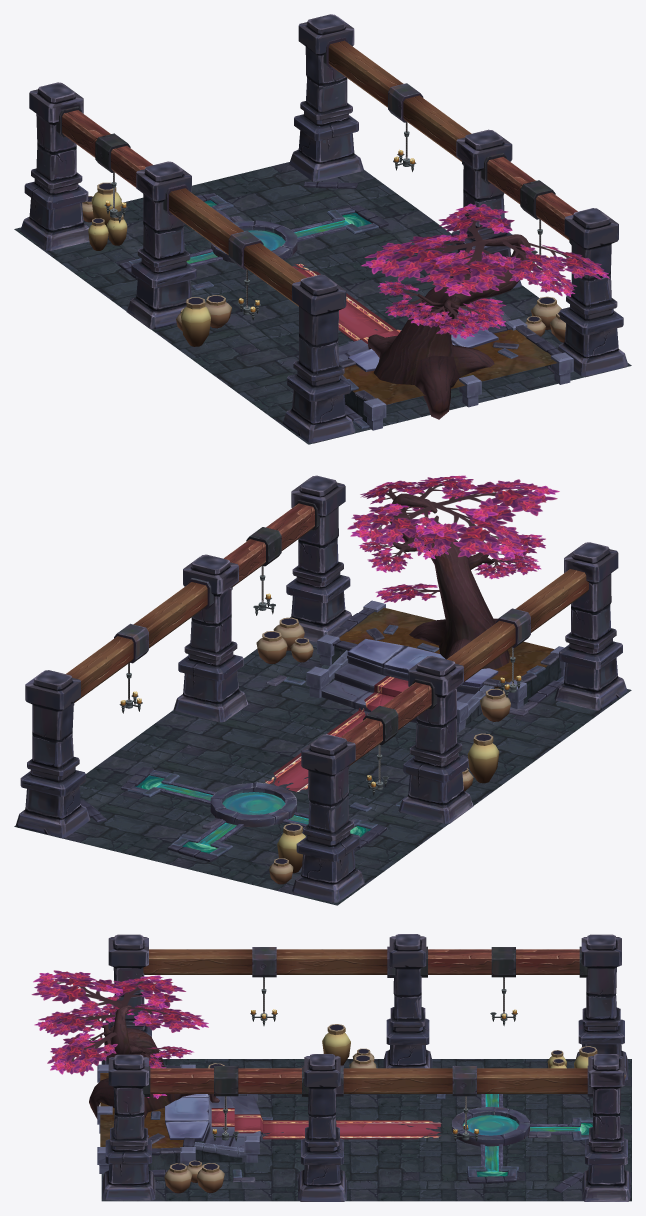
Rendered from the_trees_dungeon.glb.
The picture shows the model from 3 angles, top to bottom: view 1: azimuth 30°, elevation 25°; view 2: azimuth 150°, elevation 25°; view 3: azimuth 270°, elevation 25°; orthographic projection. The views are drawn at different scales.
Parts seen in each view (by area): view 1: Object_6, Object_8, pilier_0; view 2: Object_6, Object_8, pilier_0; view 3: Object_6, Object_8, pilier_0.
Part boxes in pixels (left/top/right/bottom): Object_6: left=14, top=162, right=631, bottom=444; Object_8: left=56, top=37, right=577, bottom=430; pilier_0: left=20, top=14, right=627, bottom=443; Object_6: left=14, top=475, right=631, bottom=905; Object_8: left=66, top=493, right=588, bottom=884; pilier_0: left=16, top=475, right=627, bottom=902; Object_6: left=31, top=970, right=631, bottom=1201; Object_8: left=89, top=946, right=625, bottom=1193; pilier_0: left=102, top=934, right=630, bottom=1201.
Size of the model in its own units: 3.03 by 1.42 by 5.55.
3 materials, 3 textured.
